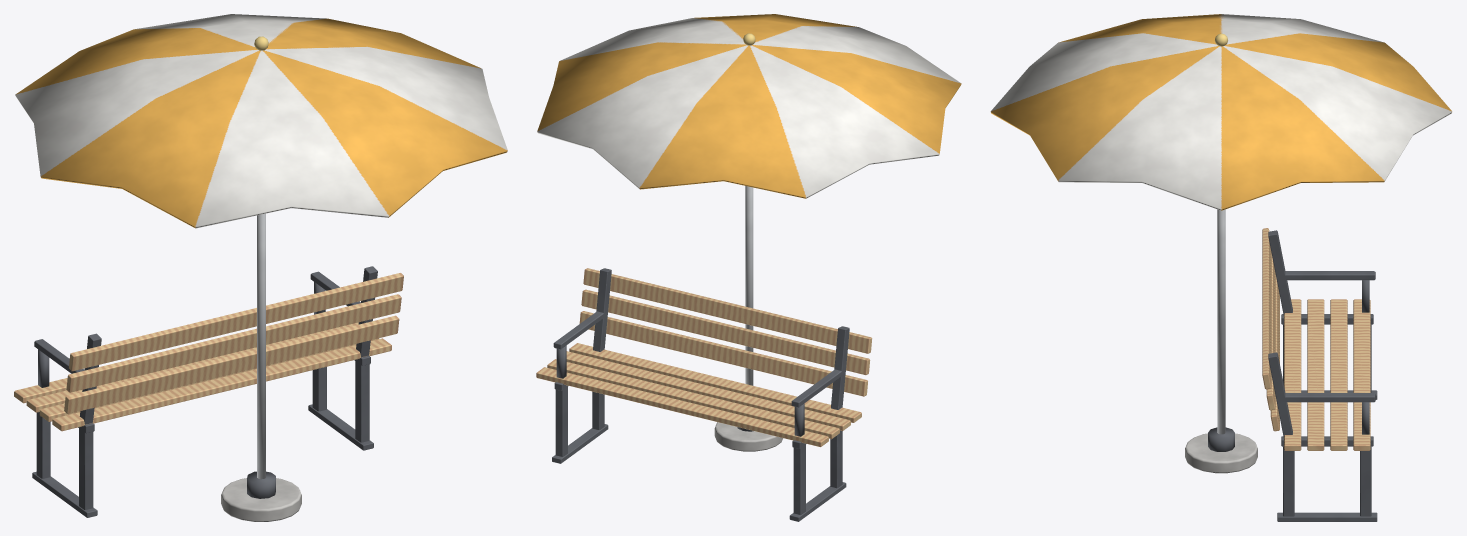
The model's file is Calor_SunUmbrellaBench.fbx.
The picture shows the model from 3 angles, left to right: view 1: azimuth 30°, elevation 25°; view 2: azimuth 150°, elevation 25°; view 3: azimuth 270°, elevation 25°; orthographic projection. The views are drawn at different scales.
Visible parts, largest first — view 1: Calor_SunUmbrellaBench; view 2: Calor_SunUmbrellaBench; view 3: Calor_SunUmbrellaBench.
Boxes of the visible parts, x1,y1,x2,y2 form: Calor_SunUmbrellaBench: (14,14,507,521); Calor_SunUmbrellaBench: (536,14,961,521); Calor_SunUmbrellaBench: (990,14,1452,521).
Size of the model in its own units: 2.4 by 2.44 by 2.4.
Materials: 1 (1 with a texture image).
